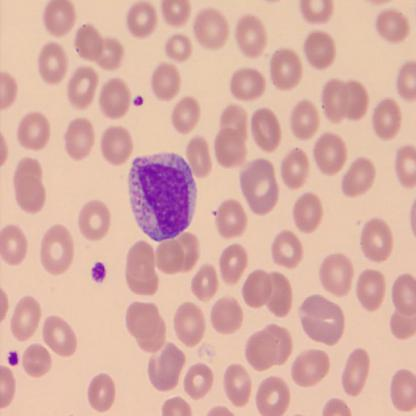Metamyelocyte: (126, 149, 198, 242)
